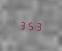five: (27, 19, 34, 31)
three: (18, 19, 25, 30), (35, 20, 42, 31)
